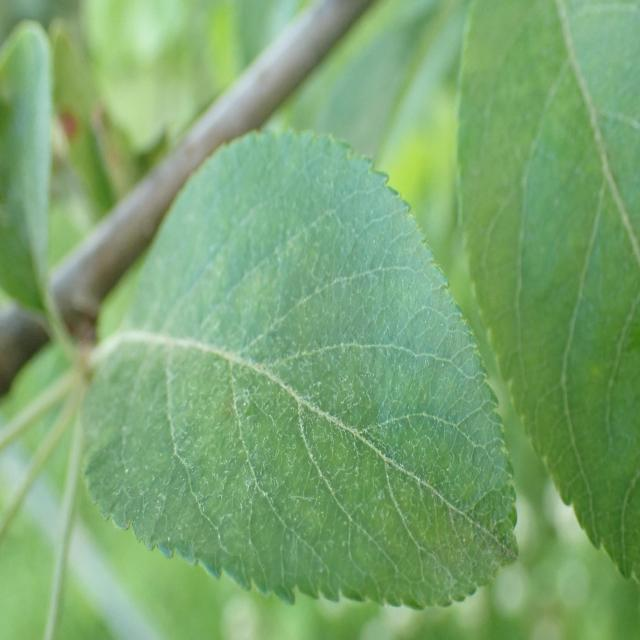scab: (126, 280, 513, 590)
